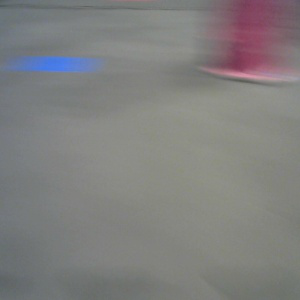Right: (198, 1, 299, 85)
